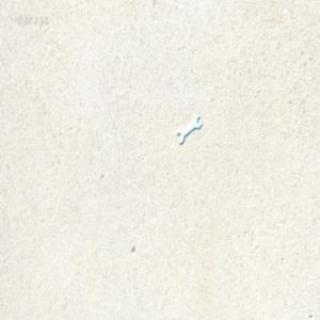Wrenchtrack_idkeyframe: (167, 110, 216, 150)
